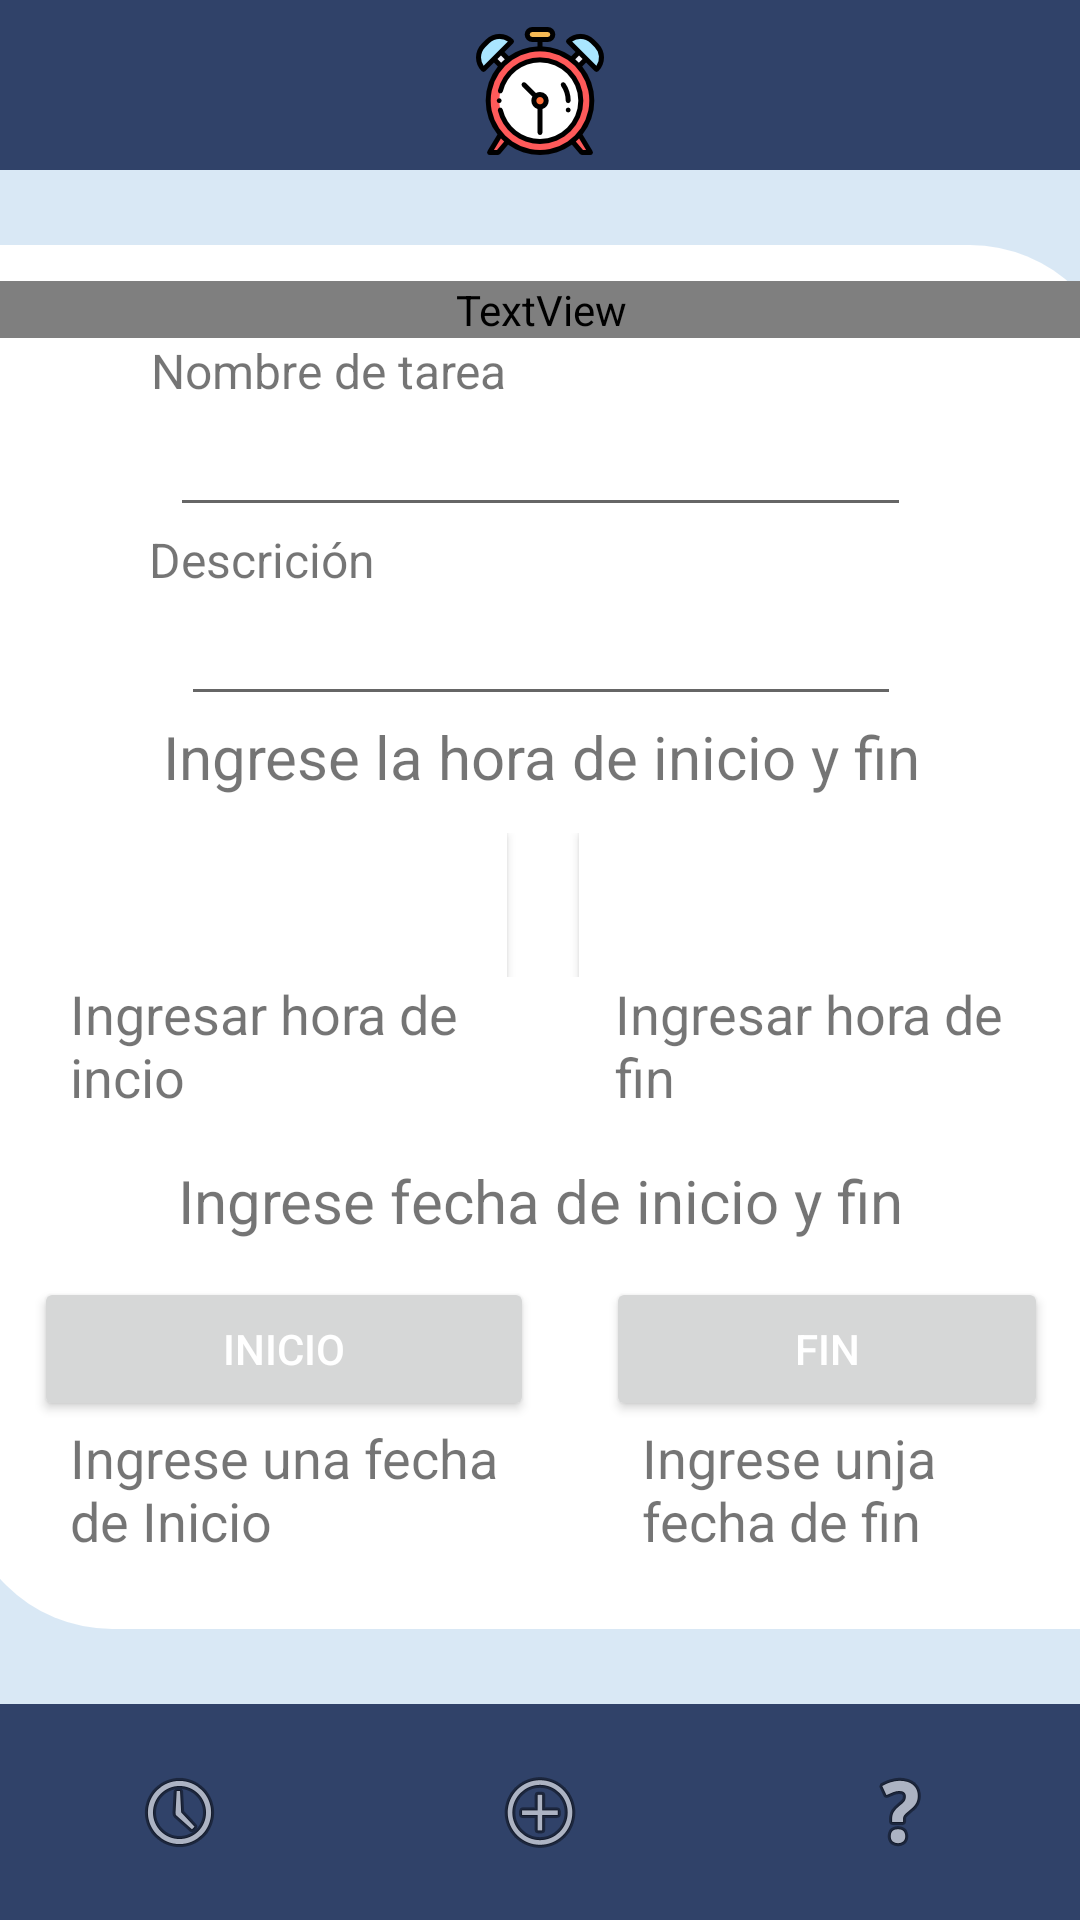

Named icons in this screenshot (1080w x 1920h) and their centers, (x=x, y=y):
add: (x=540, y=1812)
help: (x=900, y=1812)
